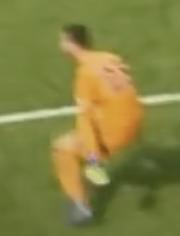goalkeeper: (32, 11, 163, 233)
